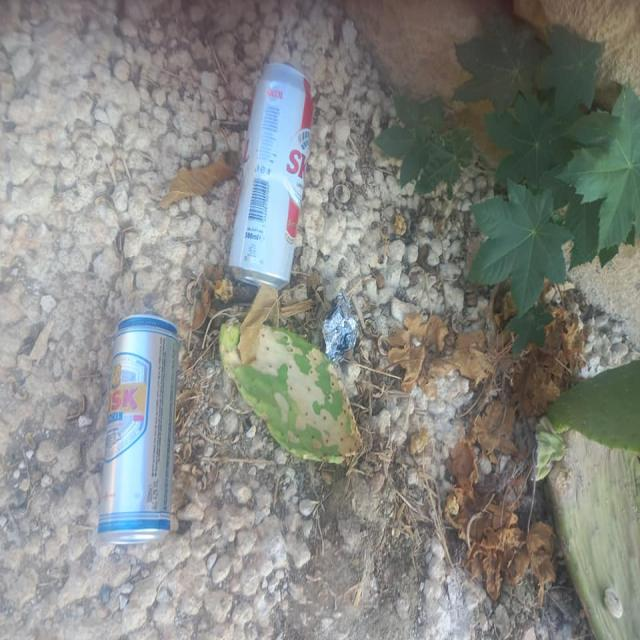Aluminium foil: (324, 293, 360, 363)
Can: (228, 61, 316, 295), (96, 315, 177, 546)
